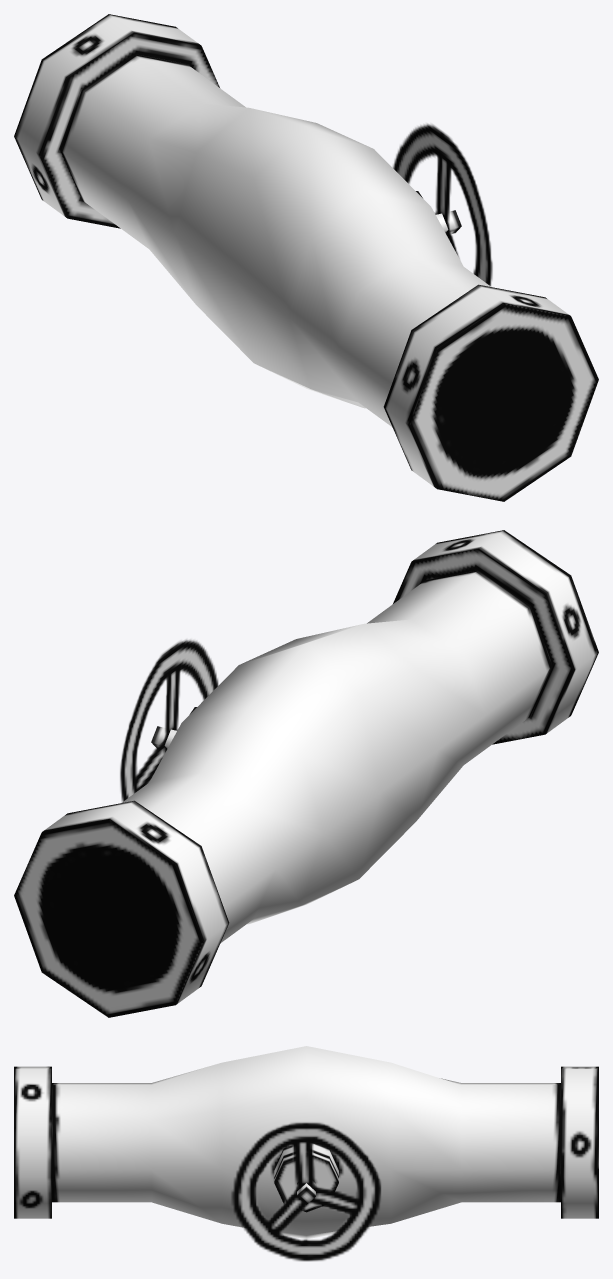
The model's file is Pipe1_Valve2.glb.
3 renders of one model, top to bottom at view 1: azimuth 30°, elevation 25°; view 2: azimuth 150°, elevation 25°; view 3: azimuth 270°, elevation 25°, orthographic. The views are drawn at different scales.
Parts seen in each view (by area): view 1: Pipe1_Valve2; view 2: Pipe1_Valve2; view 3: Pipe1_Valve2.
Boxes of the visible parts, bbox=[...] form: Pipe1_Valve2: bbox=[14, 14, 598, 501]; Pipe1_Valve2: bbox=[14, 530, 598, 1017]; Pipe1_Valve2: bbox=[14, 1046, 598, 1261].
Bounding box in the file's own units: 0.3603 × 0.3692 × 1.01.
1 material, 1 textured.
